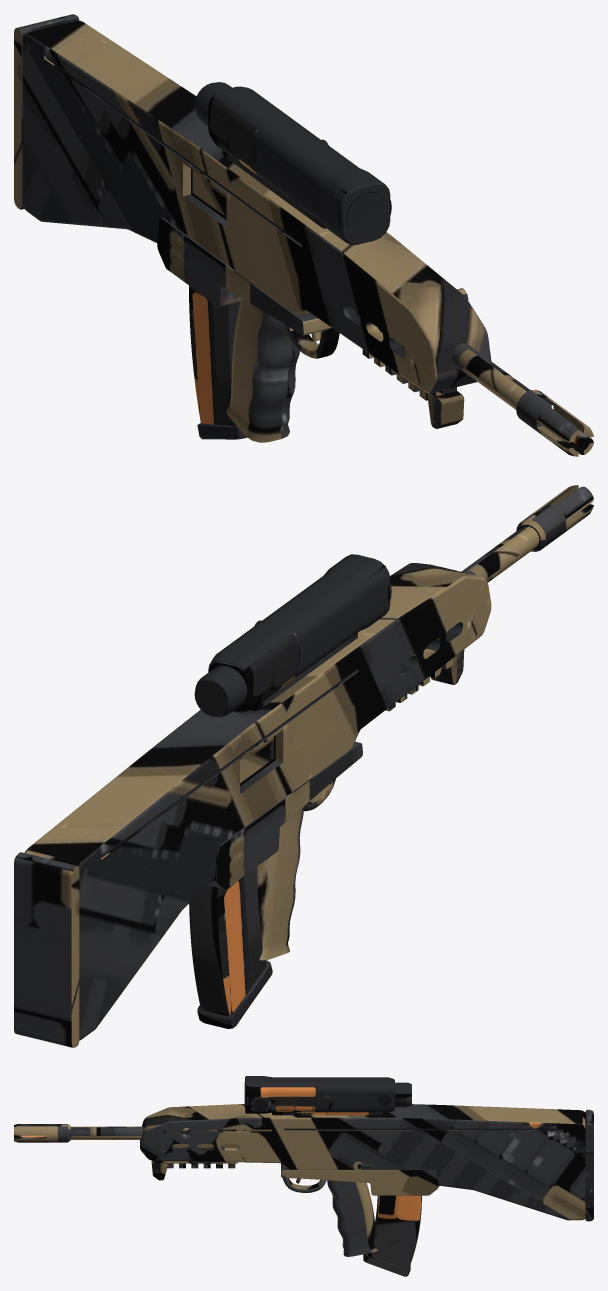
Rendered from burst.glb.
The picture shows the model from 3 angles, top to bottom: view 1: azimuth 30°, elevation 25°; view 2: azimuth 150°, elevation 25°; view 3: azimuth 270°, elevation 25°; orthographic projection. The views are drawn at different scales.
Parts seen in each view (by area): view 1: Burst_Body, Burst_Optic, Burst_Mag, Burst_Lens, Burst_Glow; view 2: Burst_Body, Burst_Optic, Burst_Mag; view 3: Burst_Body, Burst_Optic, Burst_Mag, Burst_Glow.
Part boxes in pixels (x1,y1,x2,y2): Burst_Body: [14, 14, 593, 456]; Burst_Optic: [194, 82, 391, 244]; Burst_Mag: [189, 286, 247, 439]; Burst_Lens: [346, 192, 387, 236]; Burst_Glow: [46, 57, 301, 245]; Burst_Body: [14, 485, 593, 1047]; Burst_Optic: [194, 554, 391, 717]; Burst_Mag: [189, 867, 272, 1028]; Burst_Body: [14, 1104, 593, 1256]; Burst_Optic: [245, 1076, 411, 1115]; Burst_Mag: [363, 1195, 421, 1276]; Burst_Glow: [285, 1128, 560, 1130].
Size of the model in its own units: 0.1835 by 0.87 by 2.36.
2 materials, 2 textured.
